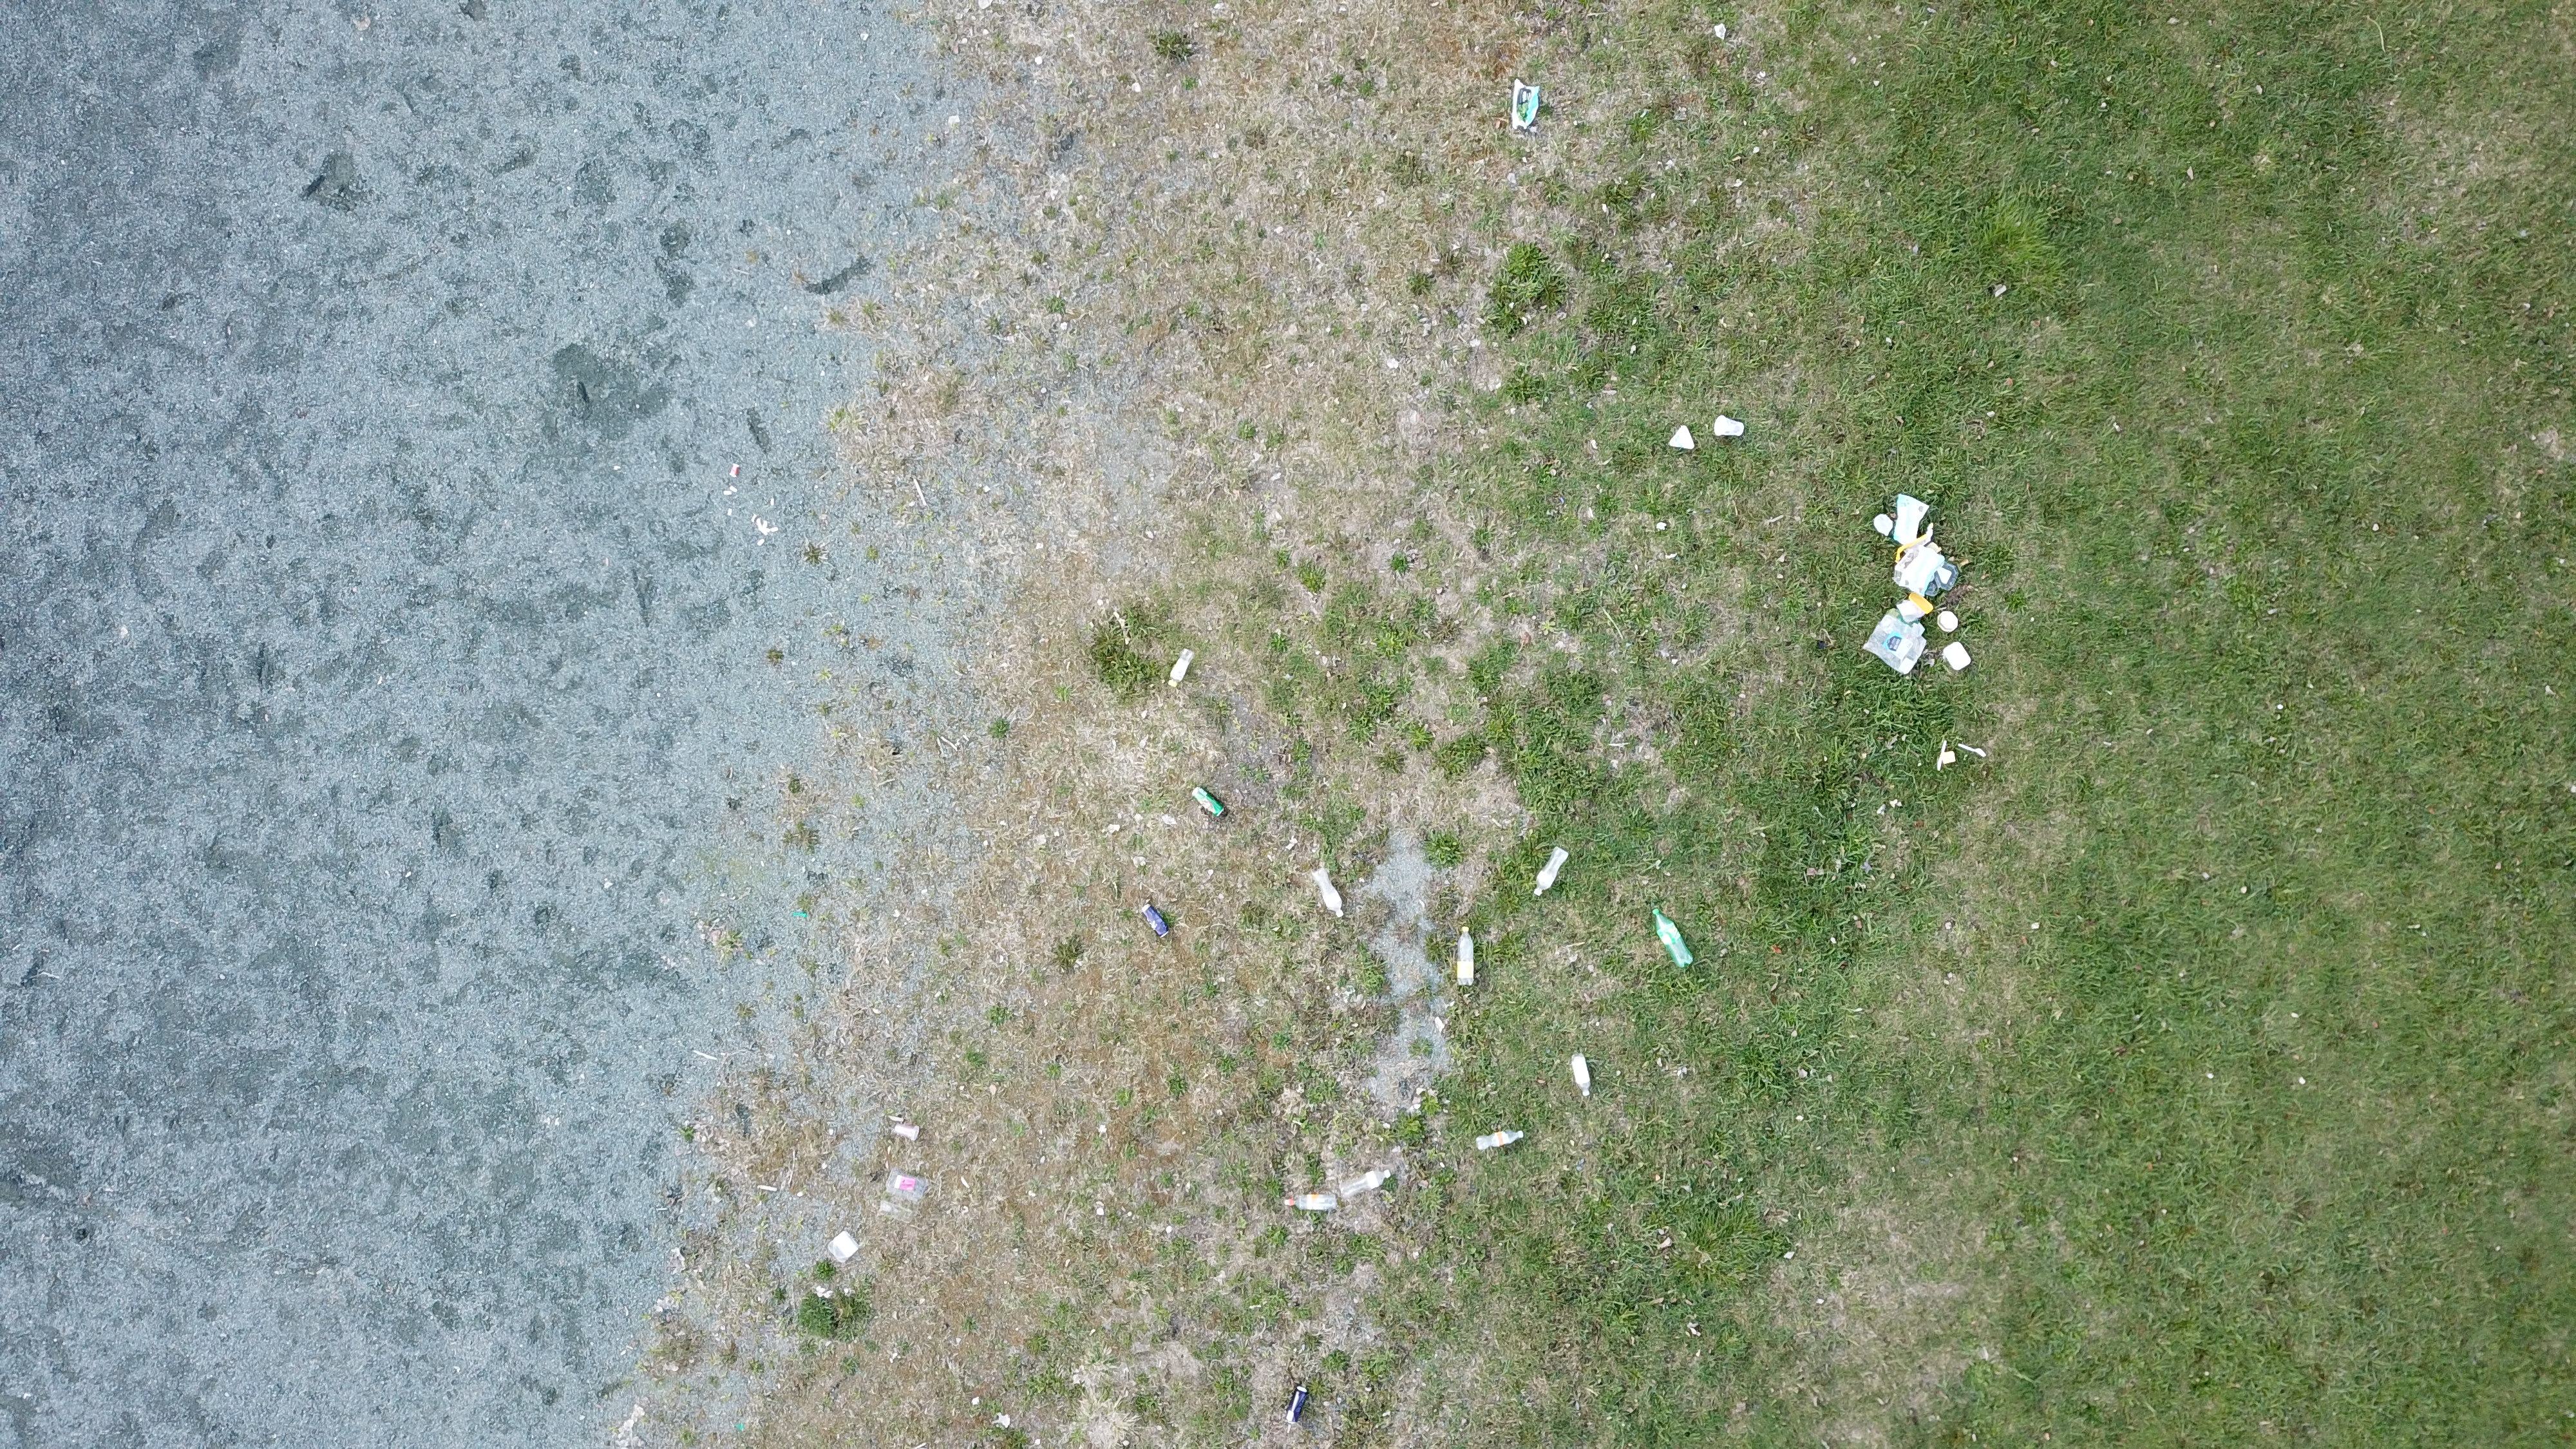Can: (1139, 902, 1169, 939), (1192, 786, 1224, 817), (1286, 1384, 1311, 1422)
Plastic: (1861, 614, 1927, 676), (1893, 524, 1944, 596), (878, 1169, 931, 1224), (1895, 494, 1930, 547), (1509, 78, 1541, 133), (1923, 559, 1959, 596), (828, 1233, 865, 1265), (1944, 642, 1973, 671), (1897, 596, 1925, 623), (1668, 425, 1697, 451), (1714, 416, 1744, 439), (1907, 589, 1934, 614), (893, 1122, 922, 1141), (1874, 513, 1895, 538), (1937, 610, 1959, 633), (1959, 743, 1989, 759), (1937, 740, 1946, 771), (1941, 752, 1957, 766), (731, 464, 741, 478), (736, 1422, 747, 1433), (793, 911, 807, 918)
PlasticBottle: (1652, 908, 1695, 970), (1532, 846, 1568, 897), (1311, 867, 1346, 918), (1338, 1168, 1392, 1200), (1281, 1191, 1343, 1212), (1569, 1051, 1592, 1097), (1476, 1129, 1525, 1150), (1168, 649, 1194, 688), (1458, 925, 1474, 987)
